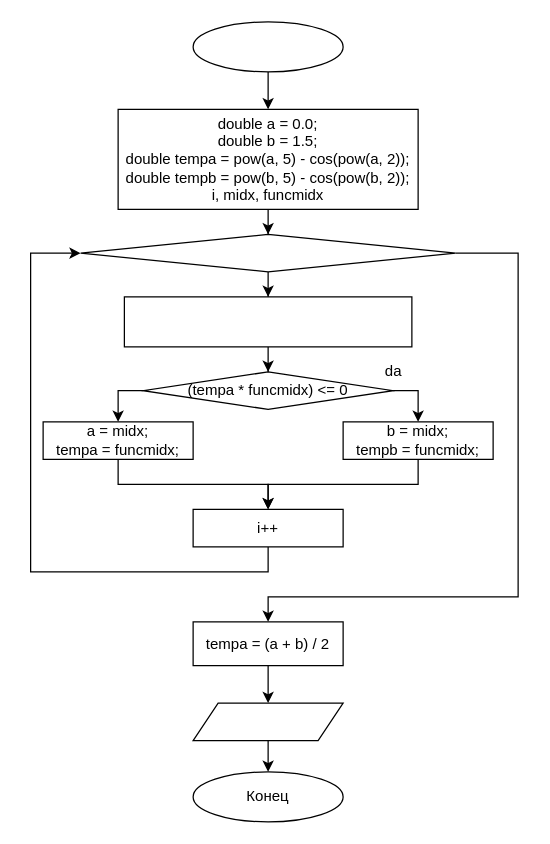
Image size: 550x844. Some labels were removed from this diagram. Each missing label, with the centre of its shape:
"((b - a) > 0.0001) && (i < 9999)" goes at (267,252).
"midx = (a + b) / 2; funcmidx = pow(a, 5) - cos(pow(a, 2));" goes at (267,321).
"tempa" goes at (267,721).
"Начало" goes at (267,46).
